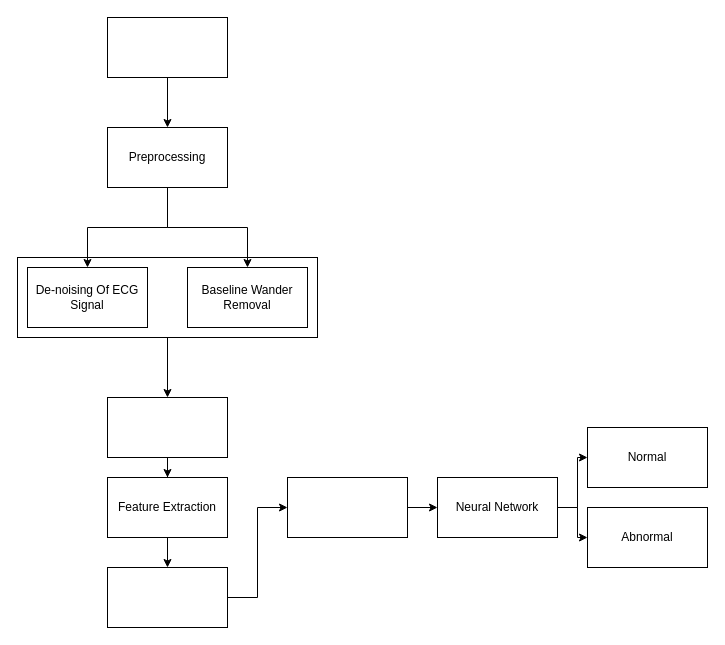
The diagram is 725 pixels wide and 645 high, and some of its shapes have lost their labels. The centre of each missing label's shape, as x and y in pixels:
"Feature Selection" belongs at point (167, 597).
"Normalization" belongs at point (347, 507).
"Peak Detection" belongs at point (167, 427).
"Signal ECG" belongs at point (167, 47).
